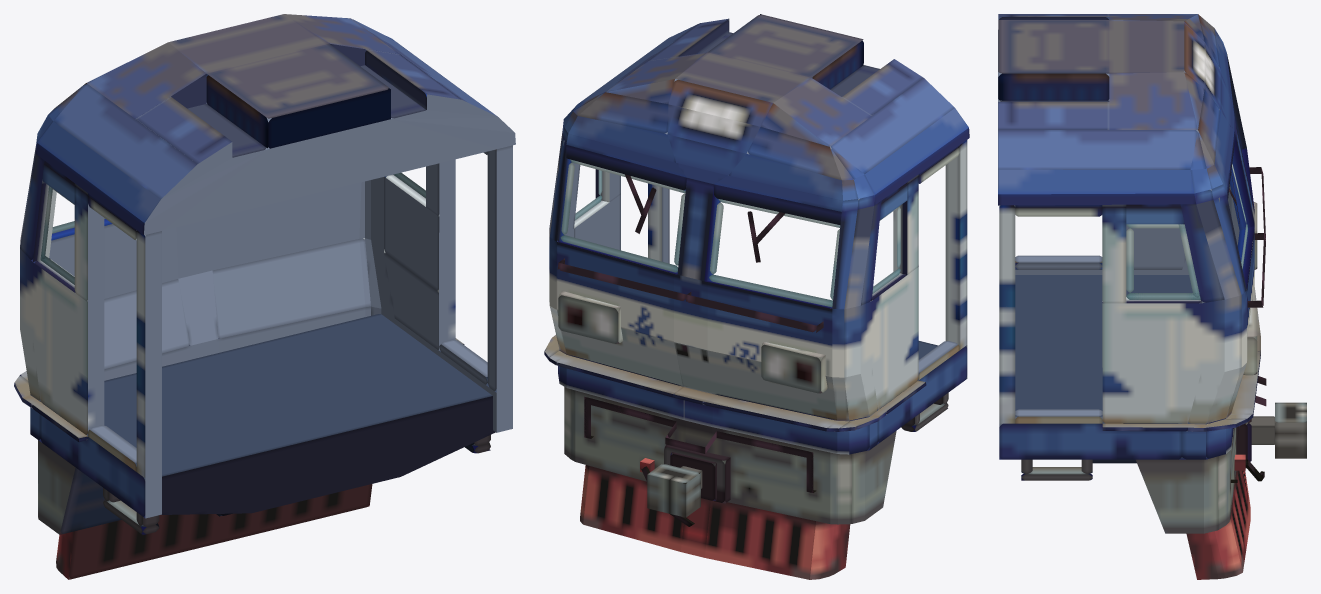
The model's file is df21_head.obj.
The picture shows the model from 3 angles, left to right: view 1: azimuth 30°, elevation 25°; view 2: azimuth 150°, elevation 25°; view 3: azimuth 270°, elevation 25°; orthographic projection. The views are drawn at different scales.
Parts seen in each view (by area): view 1: cube; view 2: cube; view 3: cube.
Part boxes in pixels (box(x1,y1,x2,y2)): cube: box(14, 14, 515, 579); cube: box(544, 14, 969, 579); cube: box(998, 14, 1306, 579).
Size of the model in its own units: 3.15 by 4.06 by 2.43.
